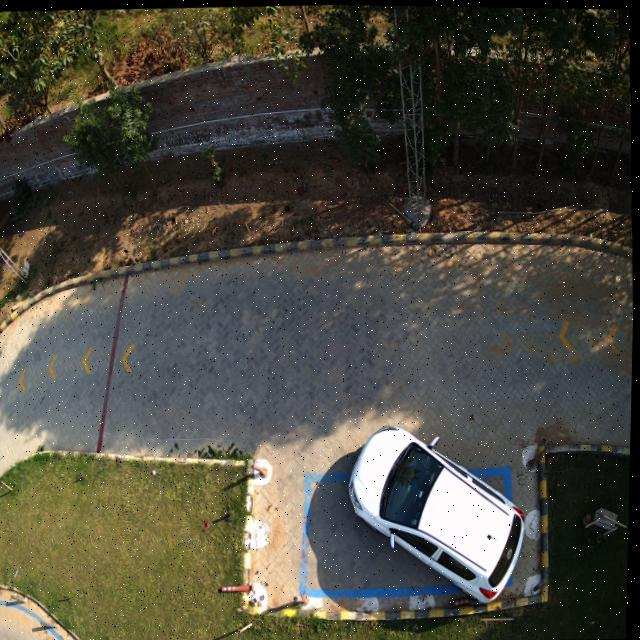car: (349, 427, 526, 603)
